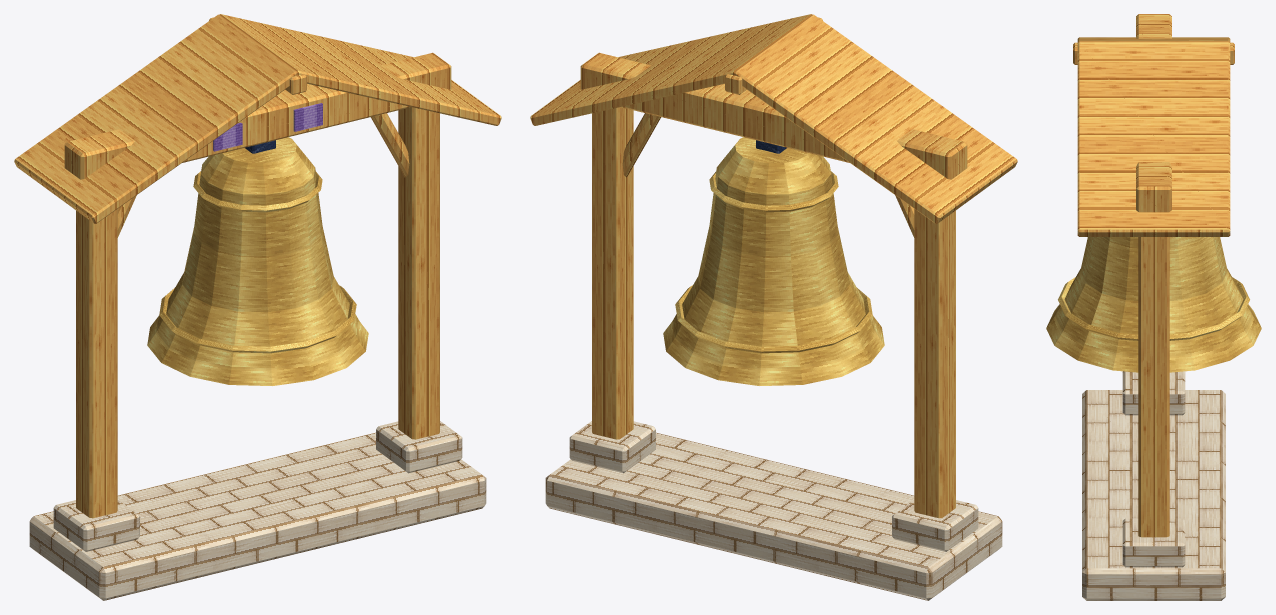
Rendered from tower_bell.glb.
3 views of the same model, side by side, from view 1: azimuth 30°, elevation 25°; view 2: azimuth 150°, elevation 25°; view 3: azimuth 270°, elevation 25° (orthographic). The views are drawn at different scales.
Visible parts, largest first — view 1: Frame, Bell; view 2: Frame, Bell; view 3: Frame, Bell.
Boxes of the visible parts, bbox=[...] form: Frame: bbox=[14, 14, 501, 600]; Bell: bbox=[147, 137, 368, 385]; Frame: bbox=[530, 14, 1017, 600]; Bell: bbox=[663, 137, 884, 385]; Frame: bbox=[1073, 14, 1234, 600]; Bell: bbox=[1046, 237, 1261, 372].
Bounding box in the file's own units: 5.09 × 5.77 × 2.4.
Materials: 5 (5 with a texture image).
